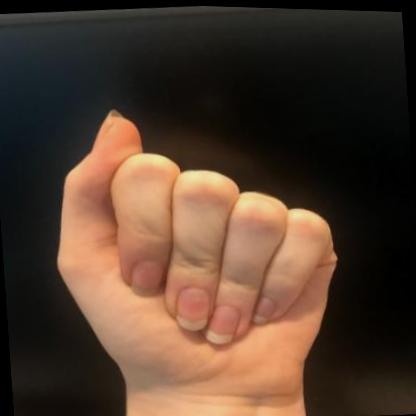A: (36, 86, 359, 416)
